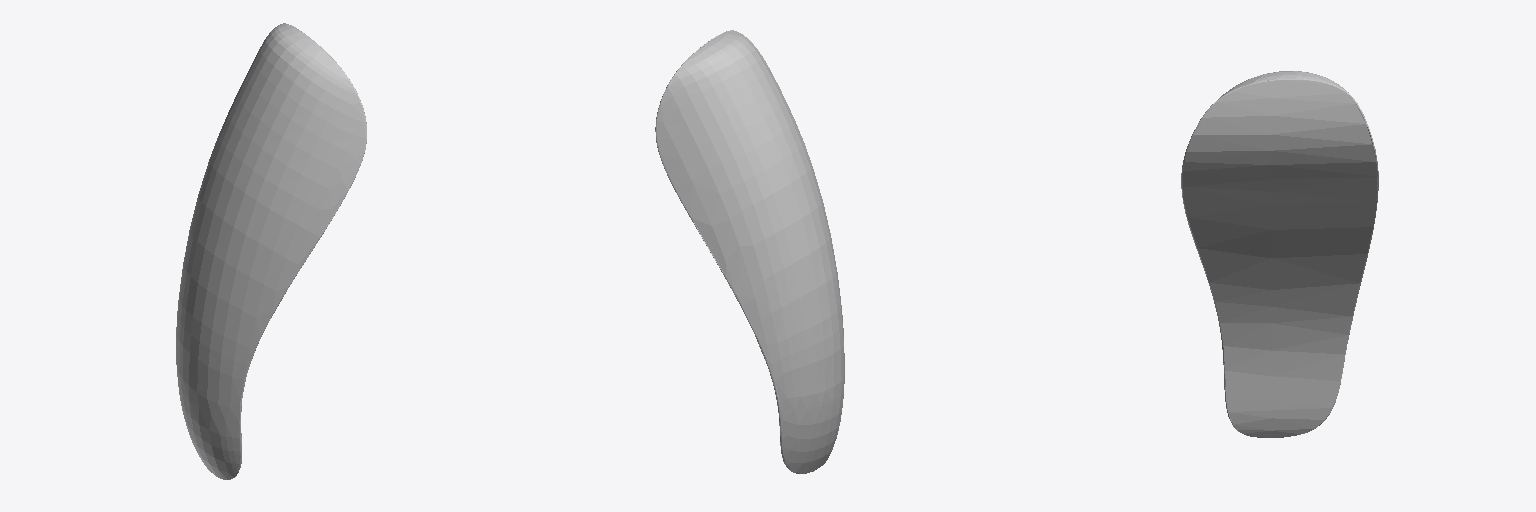
Rendered from arm_right.obj.
The picture shows the model from 3 angles: view 1: azimuth 30°, elevation 25°; view 2: azimuth 150°, elevation 25°; view 3: azimuth 270°, elevation 25°; orthographic projection.
Visible parts, largest first — view 1: MeshBody2; view 2: MeshBody2; view 3: MeshBody2.
Part boxes in pixels (x1,y1,x2,y2): MeshBody2: (176,23,366,479); MeshBody2: (655,30,844,473); MeshBody2: (1181,71,1378,437).
Bounding box in the file's own units: 11.3 × 33.08 × 14.49.